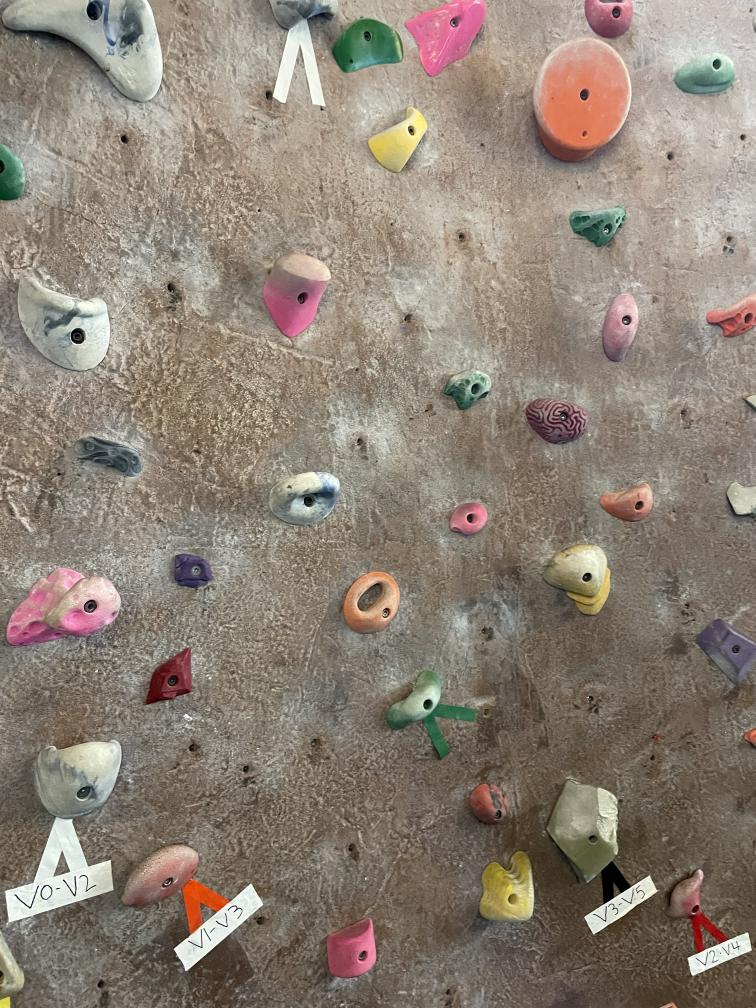Foothold: (146, 648, 197, 708), (171, 550, 219, 593)
Jug: (0, 0, 173, 106), (10, 567, 124, 649), (40, 741, 126, 817), (114, 844, 205, 912), (405, 2, 495, 70), (472, 856, 562, 922), (544, 540, 619, 616), (267, 244, 322, 339), (328, 15, 404, 75), (267, 470, 340, 527), (666, 866, 718, 925), (599, 477, 653, 523), (701, 296, 756, 341), (566, 208, 632, 244), (448, 366, 497, 408)
Pinch: (368, 108, 437, 173), (383, 669, 452, 730), (322, 915, 379, 982), (702, 624, 754, 684), (598, 293, 644, 360), (77, 434, 142, 479)
Pocket: (332, 569, 409, 636), (584, 0, 638, 36)
Sloper: (533, 43, 629, 159), (14, 266, 108, 379), (547, 776, 620, 888), (524, 394, 595, 448), (678, 53, 738, 94), (466, 787, 514, 828), (453, 501, 489, 538)
